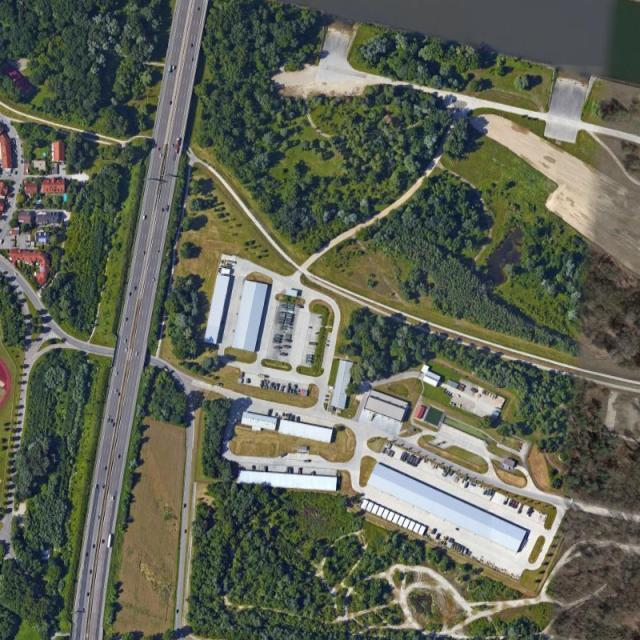vehicle: (106, 535, 112, 548), (175, 137, 181, 146), (167, 64, 172, 73)
